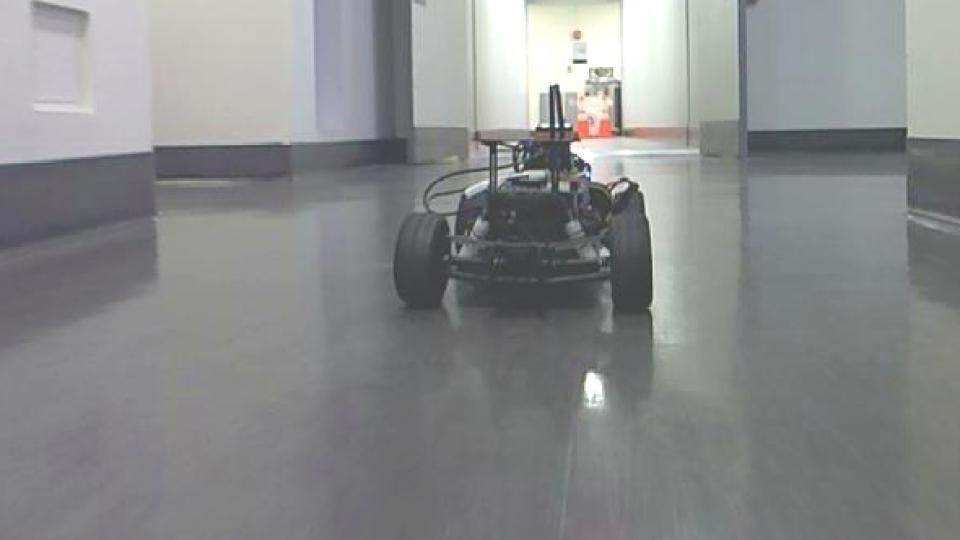car: (389, 82, 656, 314)
